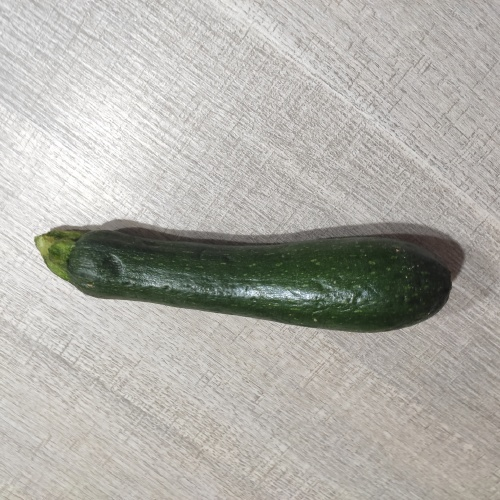zucchine: (33, 222, 459, 345)
